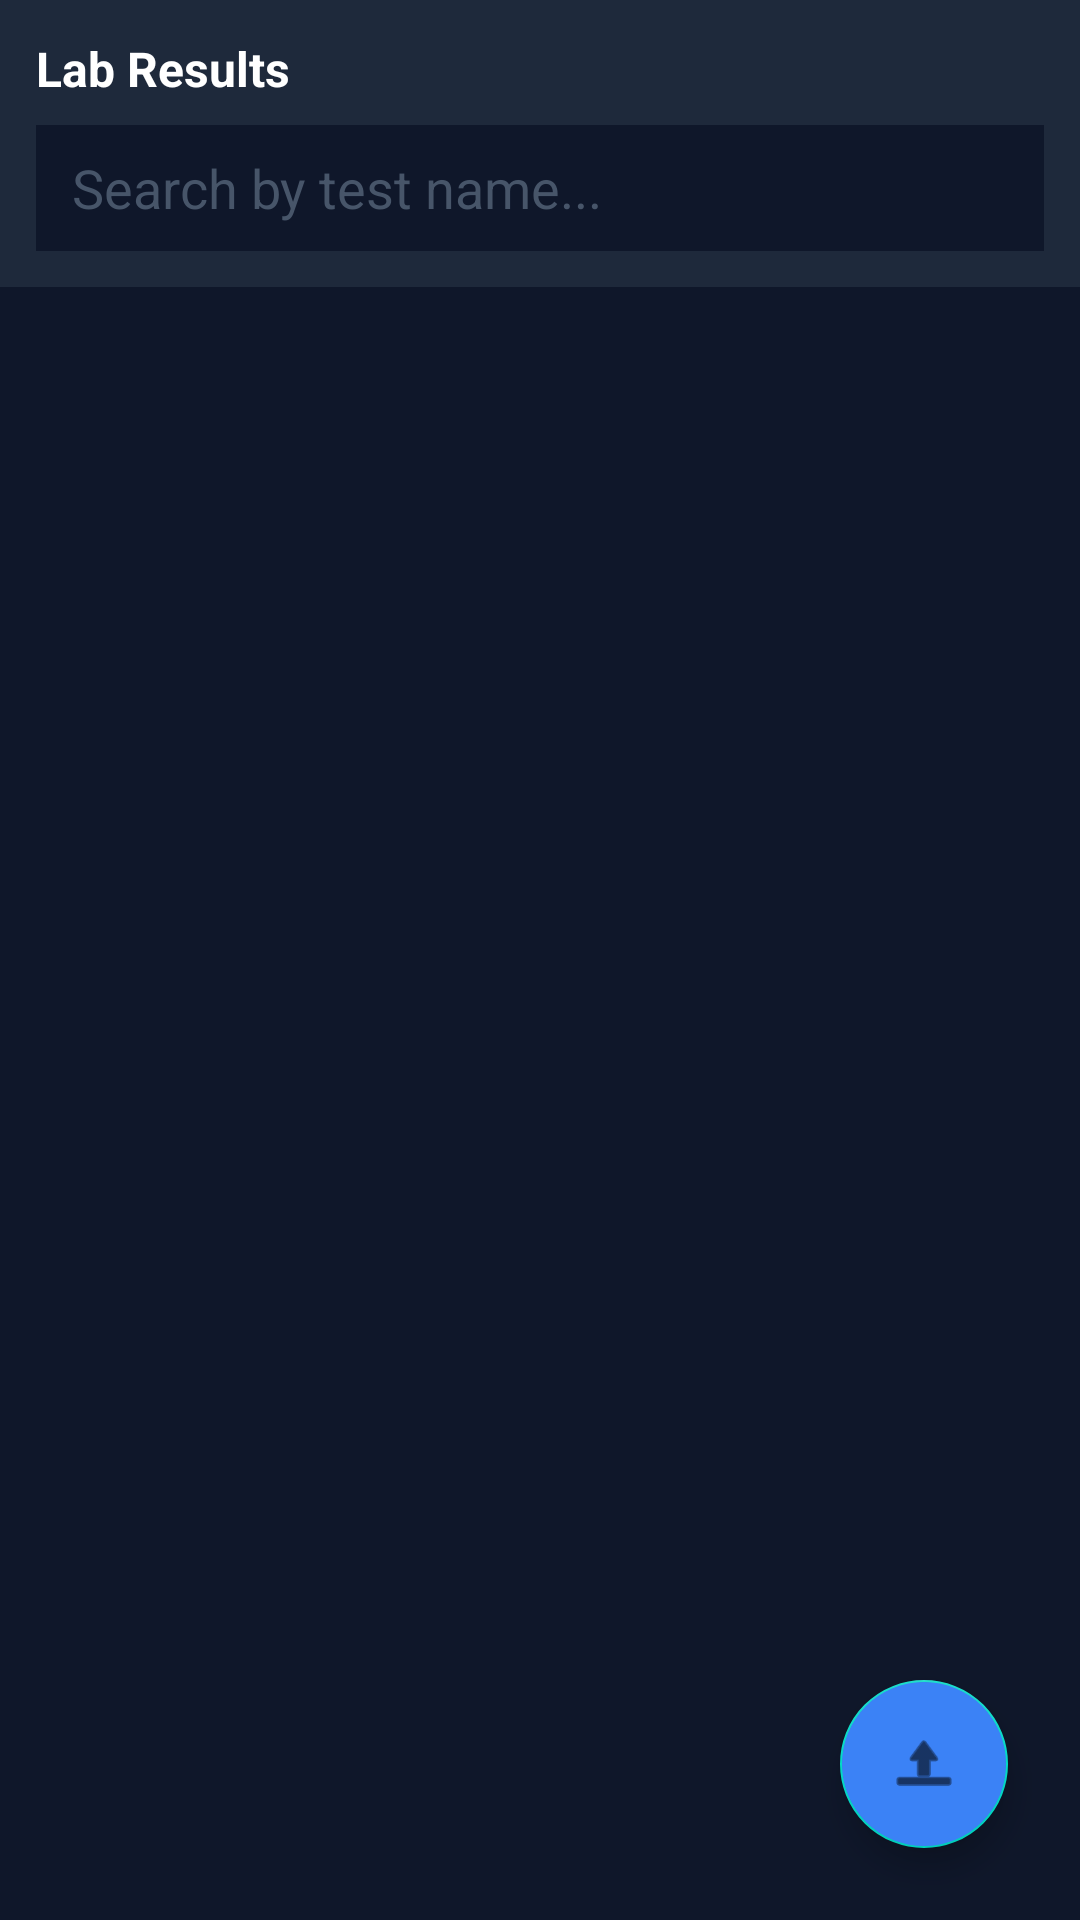

Where icons sit on this 1080 x 1920 app screen, as [left=x1, top=y1, right=x2, bottom=y2]:
Upload Result: [left=840, top=1680, right=1008, bottom=1848]
